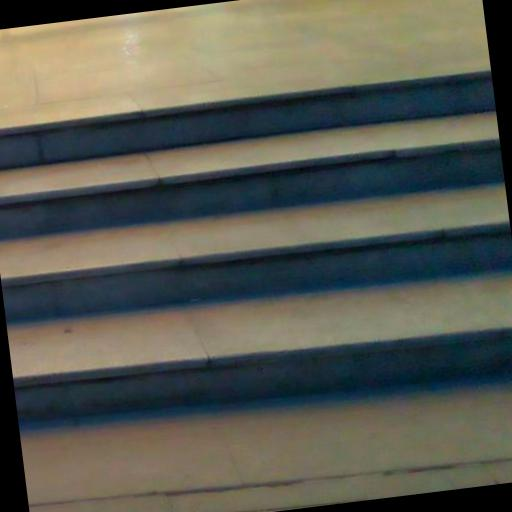stairs: (0, 73, 511, 422)
